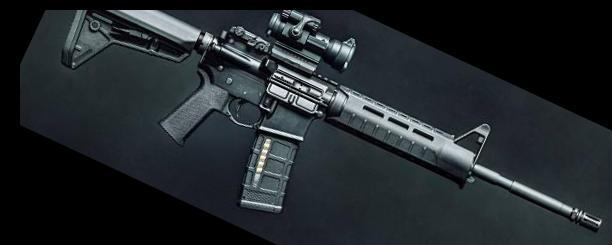larga: (62, 10, 603, 234)
